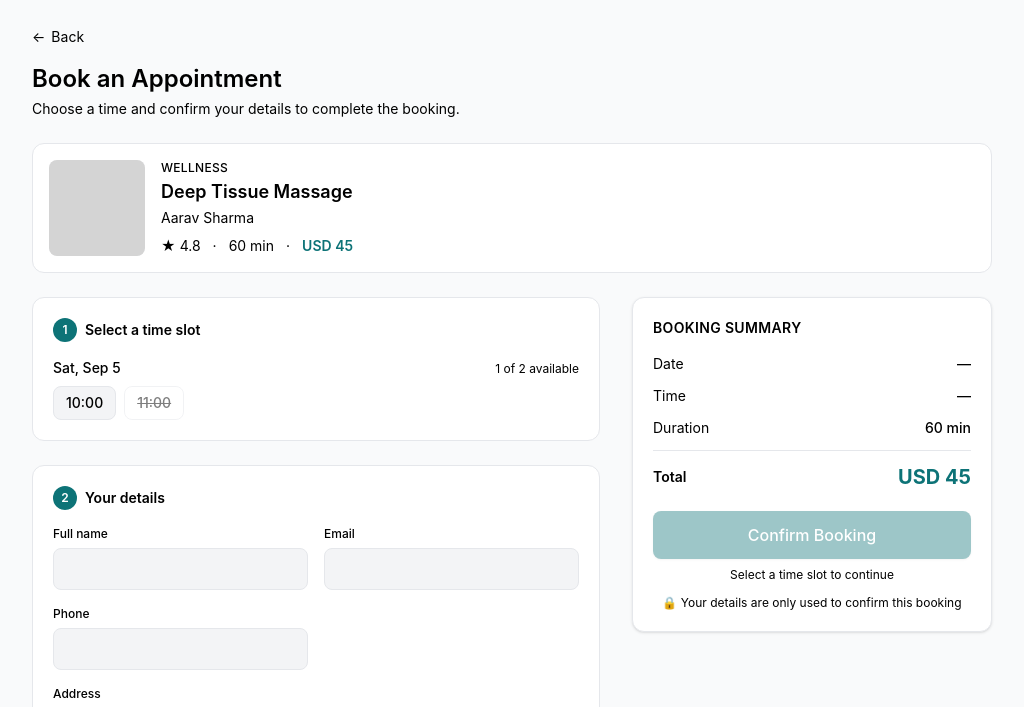
it: BookingPage › shows field-level validation errors when the server rejects the request
Click the button "10:00": (85, 403) [53, 386, 116, 420]
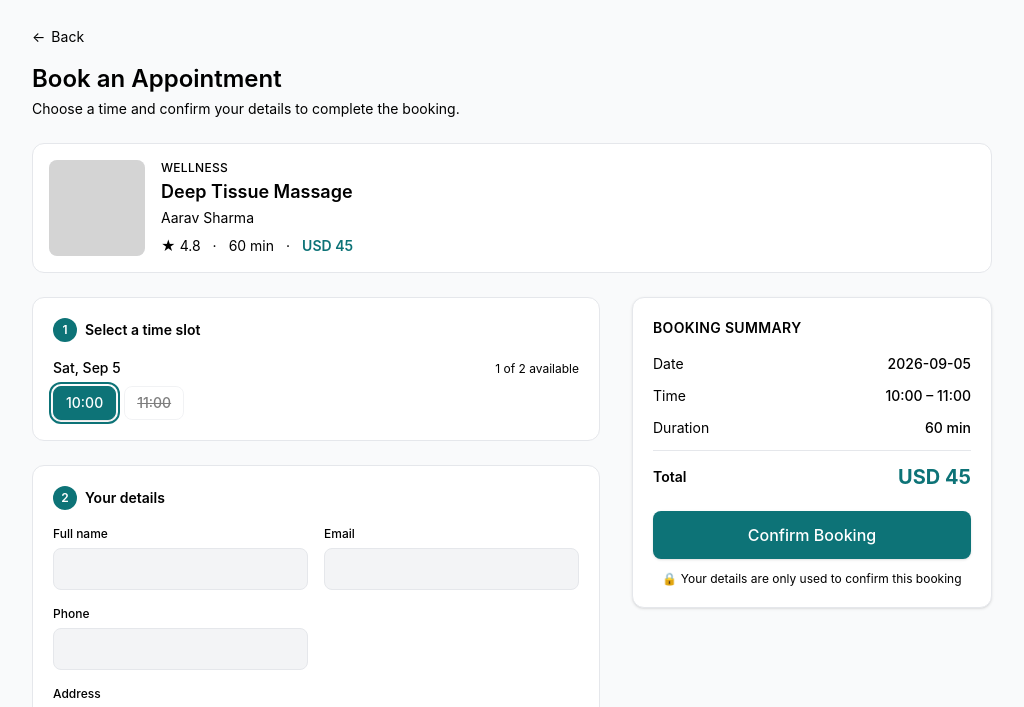
Click the button "Confirm Booking": (812, 535) [653, 511, 971, 559]
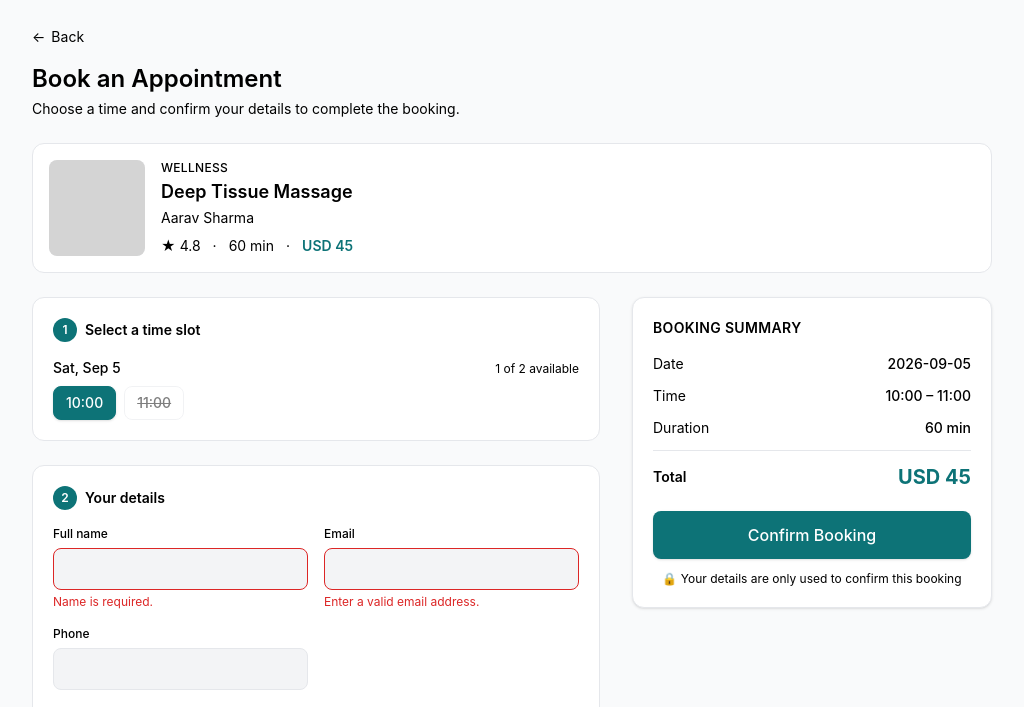
Check: the text "Name is required." is shown, box [53, 594, 153, 609]
Check: the text "Enter a valid email address." is shown, box [324, 594, 479, 609]
